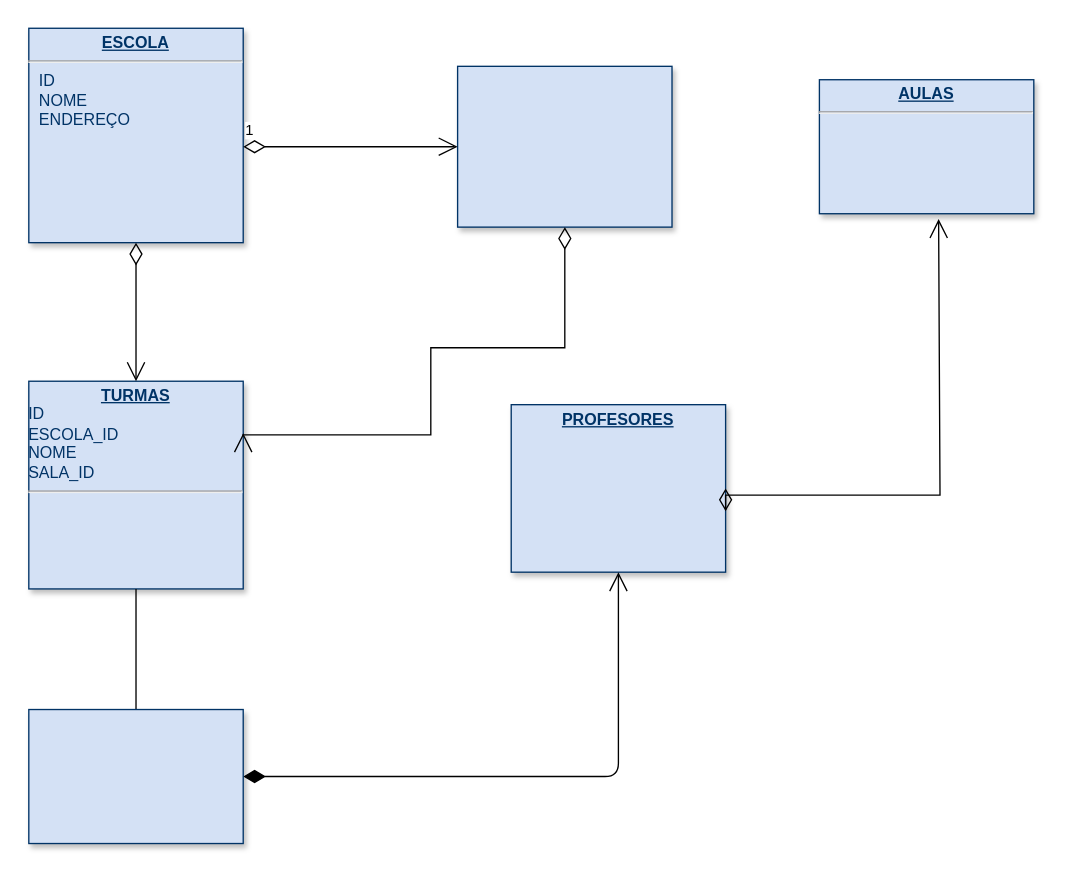
Some shapes in this 1065 by 878 pixel diagram are drawn without their labels. Here are the shapes that lost their labels. From the top down, the centre of each, then its label:
(x=565, y=148): SALA
(x=136, y=778): PROFESSOR_ID TURMA_ID
